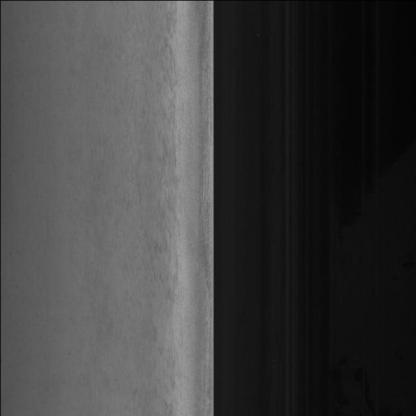silk_spot: (139, 165, 171, 266)
